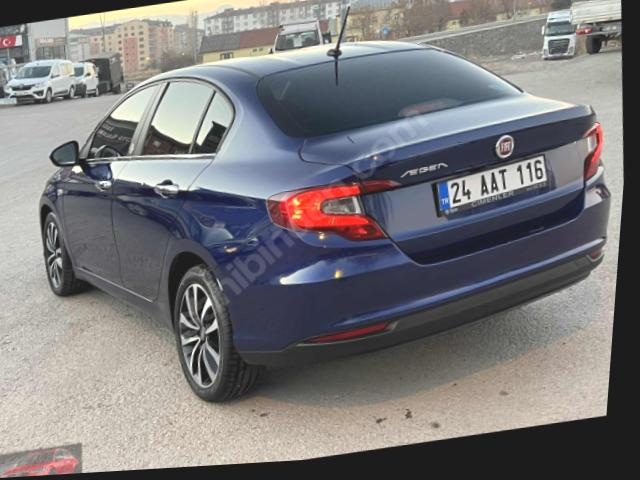plaka: (438, 156, 546, 209)
